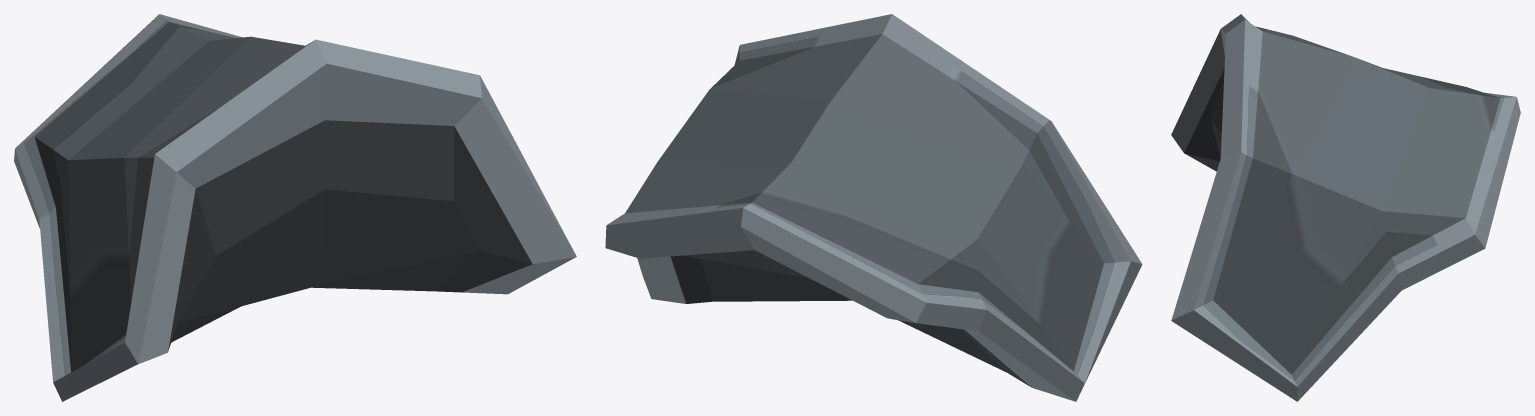
The model's file is SM_Chr_Attach_Armour_Light_Neck_Medium_01.fbx.
The picture shows the model from 3 angles, left to right: view 1: azimuth 30°, elevation 25°; view 2: azimuth 150°, elevation 25°; view 3: azimuth 270°, elevation 25°; orthographic projection. The views are drawn at different scales.
Parts seen in each view (by area): view 1: SM_Chr_Attach_Armour_Light_Neck_Medium_01; view 2: SM_Chr_Attach_Armour_Light_Neck_Medium_01; view 3: SM_Chr_Attach_Armour_Light_Neck_Medium_01.
Part boxes in pixels (x1,y1,x2,y2): SM_Chr_Attach_Armour_Light_Neck_Medium_01: [14, 14, 576, 401]; SM_Chr_Attach_Armour_Light_Neck_Medium_01: [605, 14, 1142, 401]; SM_Chr_Attach_Armour_Light_Neck_Medium_01: [1171, 14, 1520, 401].
Bounding box in the file's own units: 28.82 × 19.66 × 21.64.
